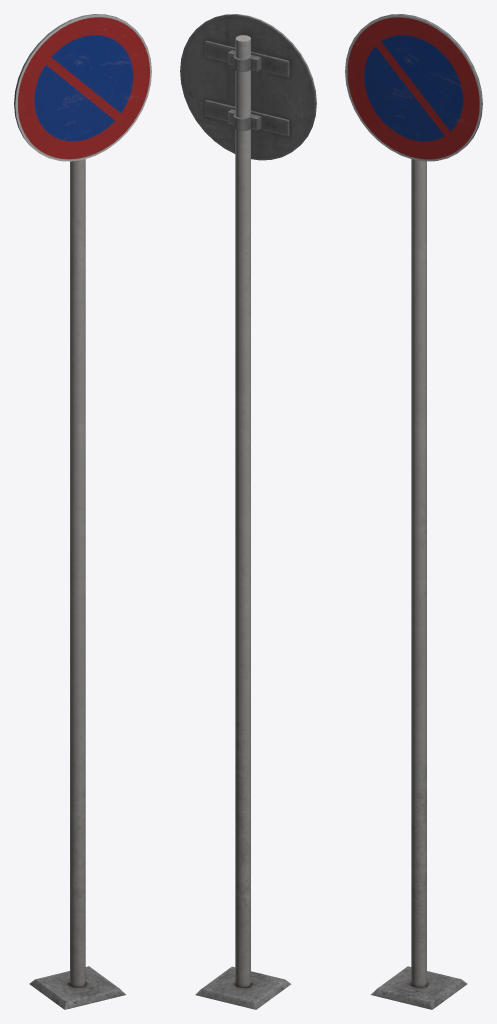
File: jctStreetSignB.fbx
3 renders of one model, left to right at view 1: azimuth 30°, elevation 25°; view 2: azimuth 150°, elevation 25°; view 3: azimuth 330°, elevation 25°, orthographic.
Parts seen in each view (by area): view 1: jctStreetSignB; view 2: jctStreetSignB; view 3: jctStreetSignB.
Boxes of the visible parts, x1=… form: jctStreetSignB: x1=14, y1=14, x2=151, y2=1009; jctStreetSignB: x1=180, y1=14, x2=316, y2=1009; jctStreetSignB: x1=345, y1=14, x2=482, y2=1009.
Size of the model in its own units: 60 by 410 by 27.08.
